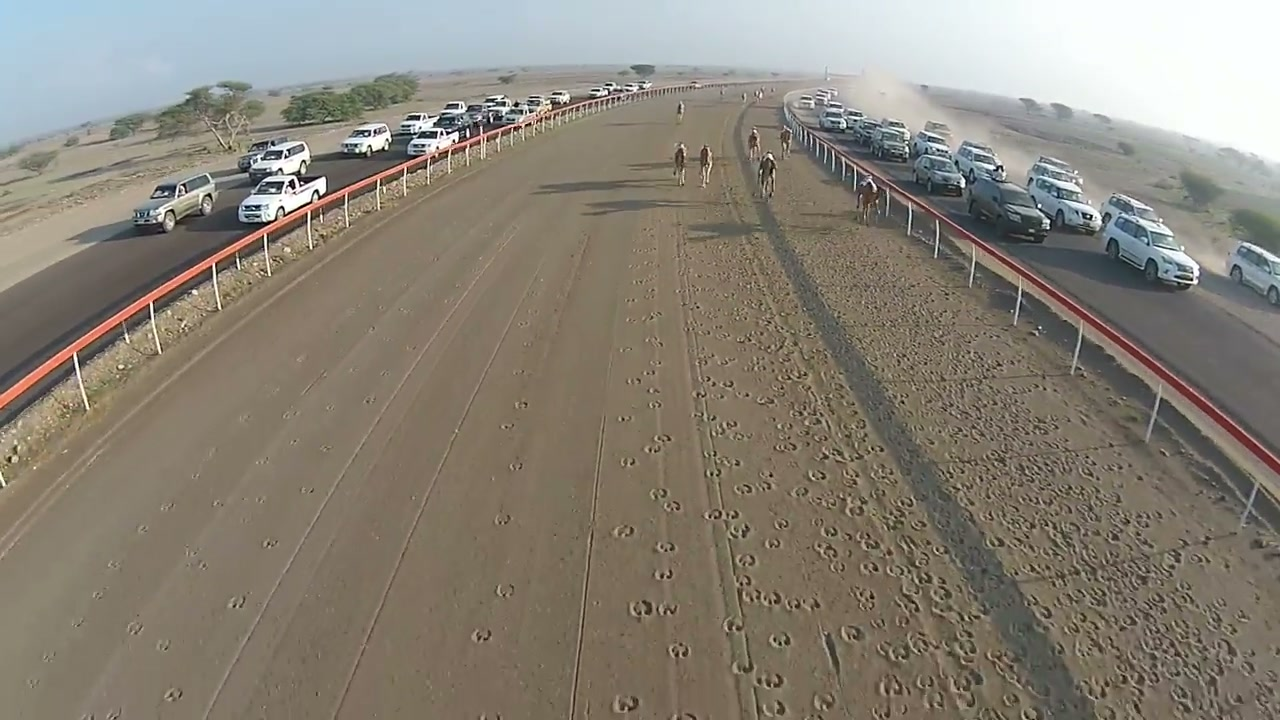animal_footprint: (687, 268, 893, 617), (580, 297, 717, 686), (675, 291, 775, 685), (720, 409, 842, 622), (760, 462, 928, 587), (914, 675, 946, 710), (821, 630, 842, 676), (628, 600, 678, 619), (877, 673, 909, 696), (758, 698, 788, 717), (80, 706, 123, 719), (611, 695, 640, 713), (185, 548, 208, 570), (812, 691, 837, 711), (628, 600, 654, 619), (755, 672, 784, 689), (726, 522, 751, 540), (769, 632, 792, 649), (731, 659, 755, 675), (668, 642, 690, 659), (722, 617, 744, 633), (774, 439, 799, 453), (754, 479, 777, 494), (733, 482, 757, 496), (163, 687, 184, 703), (859, 561, 882, 575), (612, 524, 634, 538), (126, 619, 144, 636), (734, 572, 753, 588), (471, 628, 491, 643), (736, 553, 756, 568), (657, 602, 678, 616), (807, 469, 828, 483), (653, 567, 673, 581), (495, 583, 514, 597), (227, 595, 246, 609), (654, 541, 676, 553), (643, 362, 660, 377), (828, 560, 846, 574), (649, 488, 669, 500), (704, 508, 724, 520), (663, 500, 682, 512), (155, 638, 171, 652), (763, 537, 781, 549), (644, 442, 663, 453), (494, 513, 510, 526), (281, 408, 298, 420), (670, 712, 699, 719), (773, 518, 789, 530), (41, 651, 57, 663), (26, 676, 40, 689), (160, 501, 175, 513), (237, 412, 252, 424), (508, 461, 523, 472), (620, 456, 635, 467), (261, 538, 277, 548), (106, 559, 120, 570), (363, 394, 377, 405), (91, 588, 105, 599), (616, 414, 633, 423), (318, 443, 333, 453), (625, 377, 643, 385), (514, 399, 528, 409), (511, 368, 528, 376), (136, 524, 149, 534), (647, 400, 661, 409), (500, 421, 514, 430), (299, 486, 314, 494), (645, 386, 660, 394), (324, 403, 336, 412), (617, 346, 632, 353), (289, 437, 300, 446), (624, 297, 640, 303), (517, 320, 529, 328)
